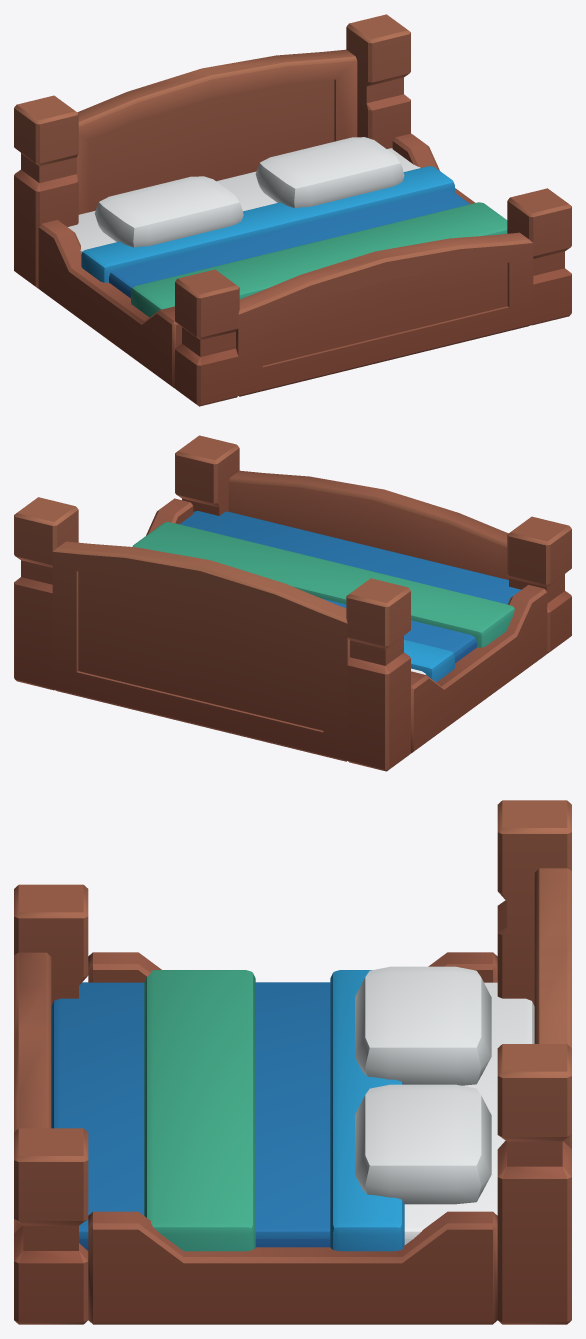
Rendered from bed_B_double.glb.
3 renders of one model, top to bottom at view 1: azimuth 30°, elevation 25°; view 2: azimuth 150°, elevation 25°; view 3: azimuth 270°, elevation 25°, orthographic. The views are drawn at different scales.
Visible parts, largest first — view 1: bed_B_double; view 2: bed_B_double; view 3: bed_B_double.
Boxes of the visible parts, x1=… form: bed_B_double: x1=14, y1=14, x2=571, y2=406; bed_B_double: x1=14, y1=435, x2=571, y2=771; bed_B_double: x1=14, y1=800, x2=571, y2=1324.
Size of the model in its own units: 3.5 by 1.5 by 3.
1 material, 1 textured.
